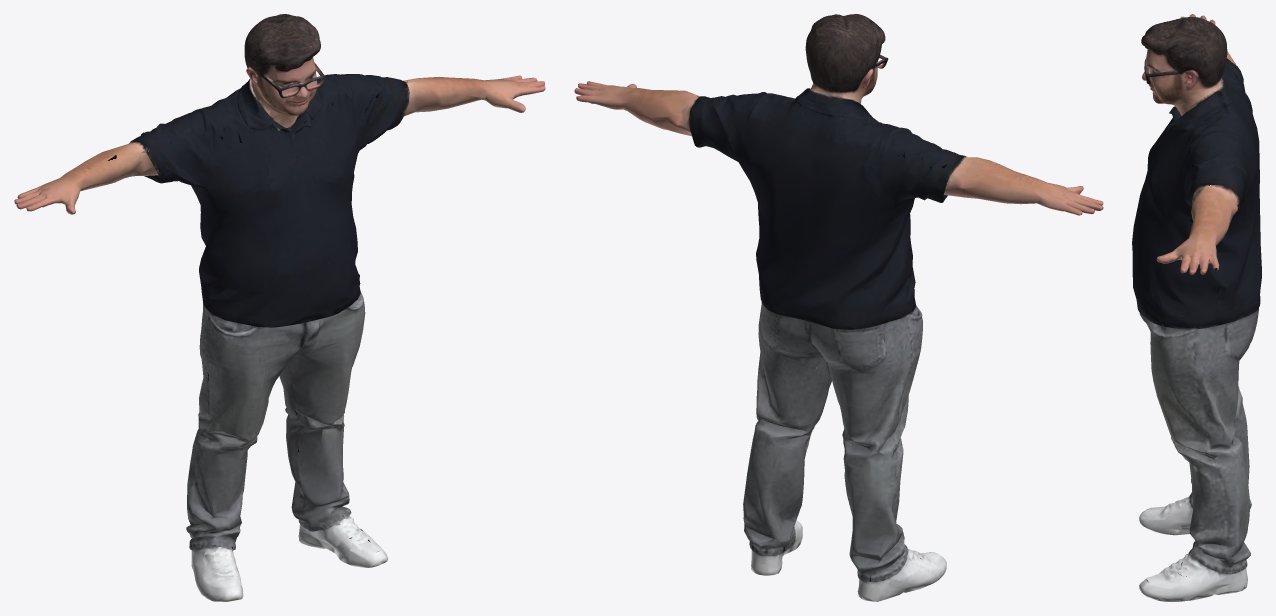
Rendered from connor.glb.
The picture shows the model from 3 angles, left to right: view 1: azimuth 30°, elevation 25°; view 2: azimuth 150°, elevation 25°; view 3: azimuth 270°, elevation 25°; orthographic projection.
Visible parts, largest first — view 1: tommy; view 2: tommy; view 3: tommy.
Boxes of the visible parts, x1,y1,x2,y2 form: tommy: (14, 14, 545, 601); tommy: (574, 14, 1103, 601); tommy: (1132, 14, 1261, 601).
Size of the model in its own units: 1.8 by 1.8 by 0.3905.
Materials: 1 (1 with a texture image).
